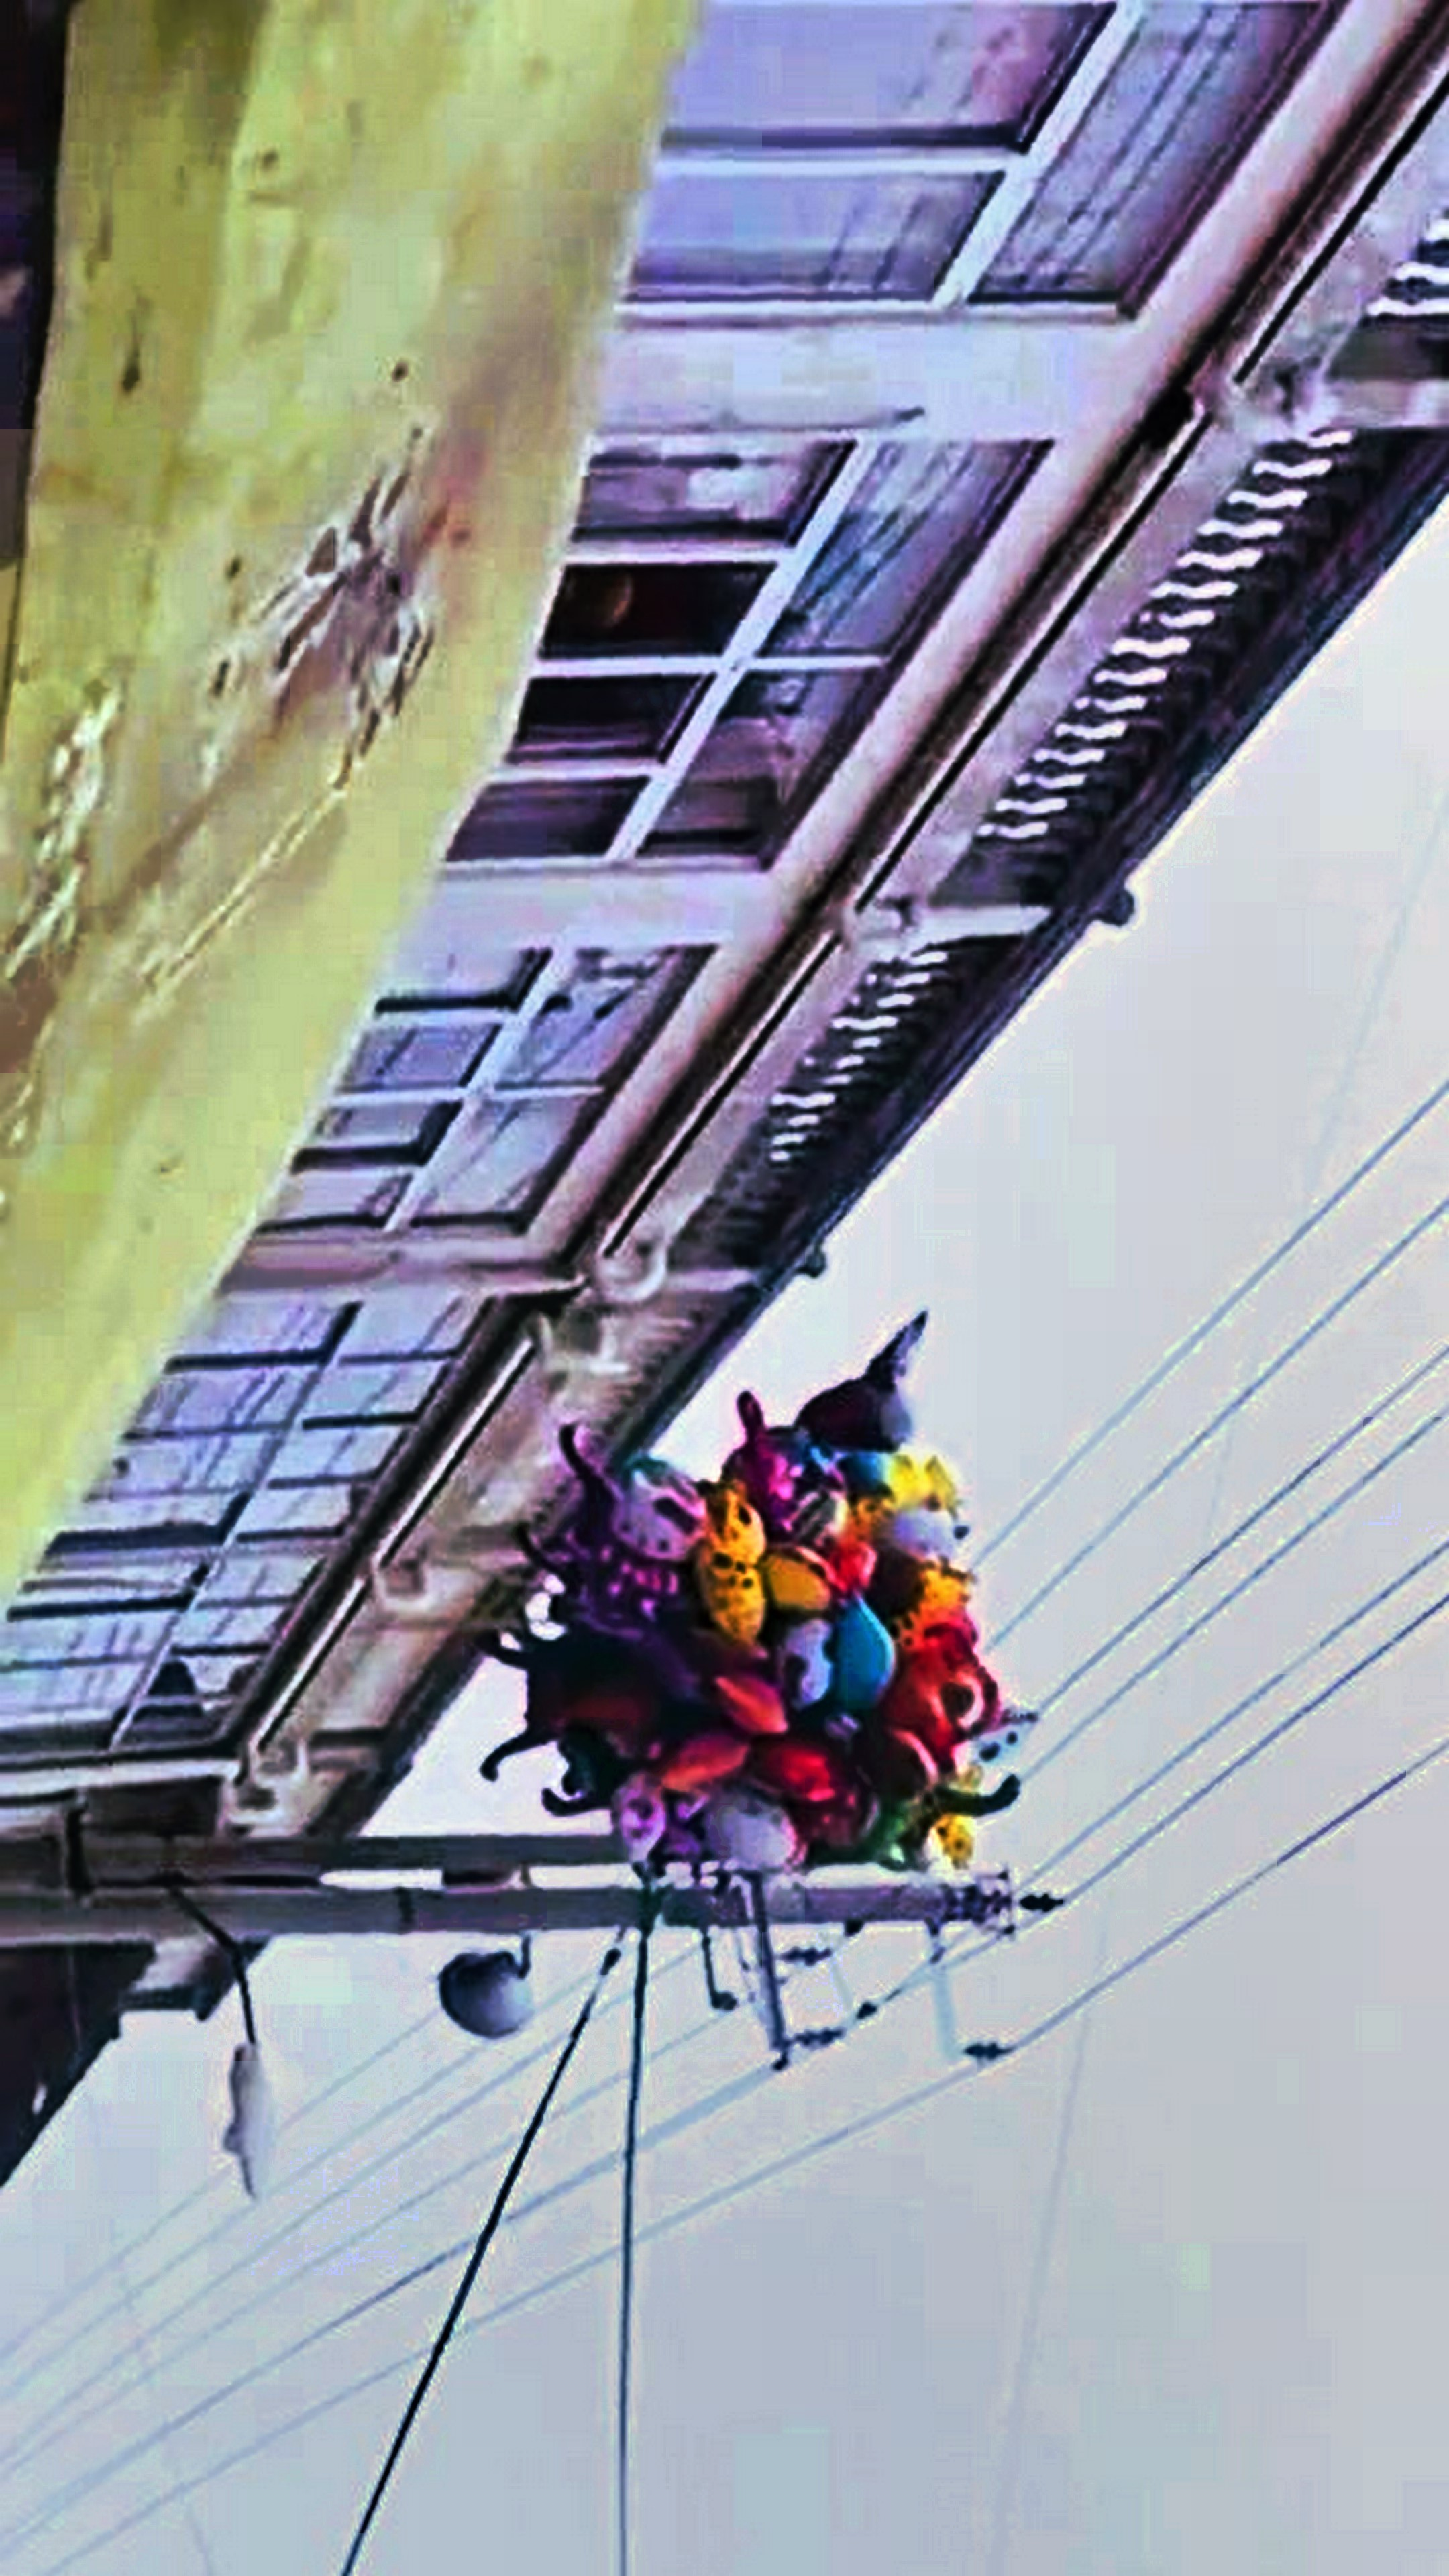wire foreign body: (441, 1346, 1146, 1950)
